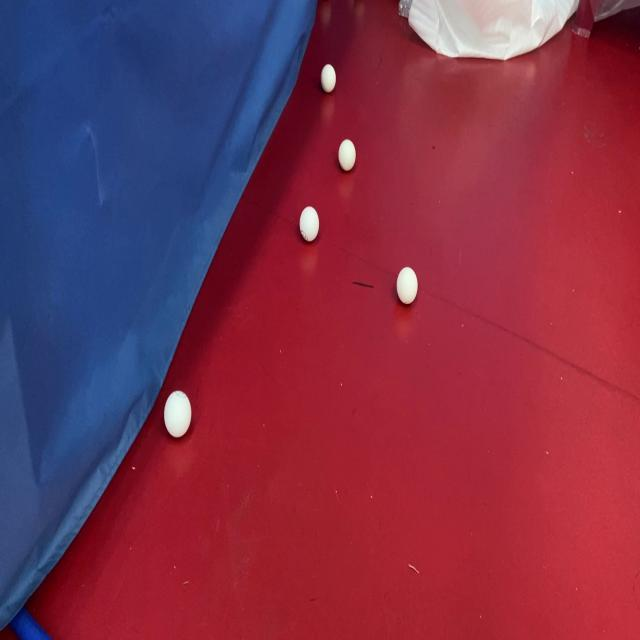ping-pong-ball: (162, 388, 192, 439), (396, 265, 418, 306), (298, 204, 320, 243), (337, 137, 357, 173), (320, 61, 338, 94)
